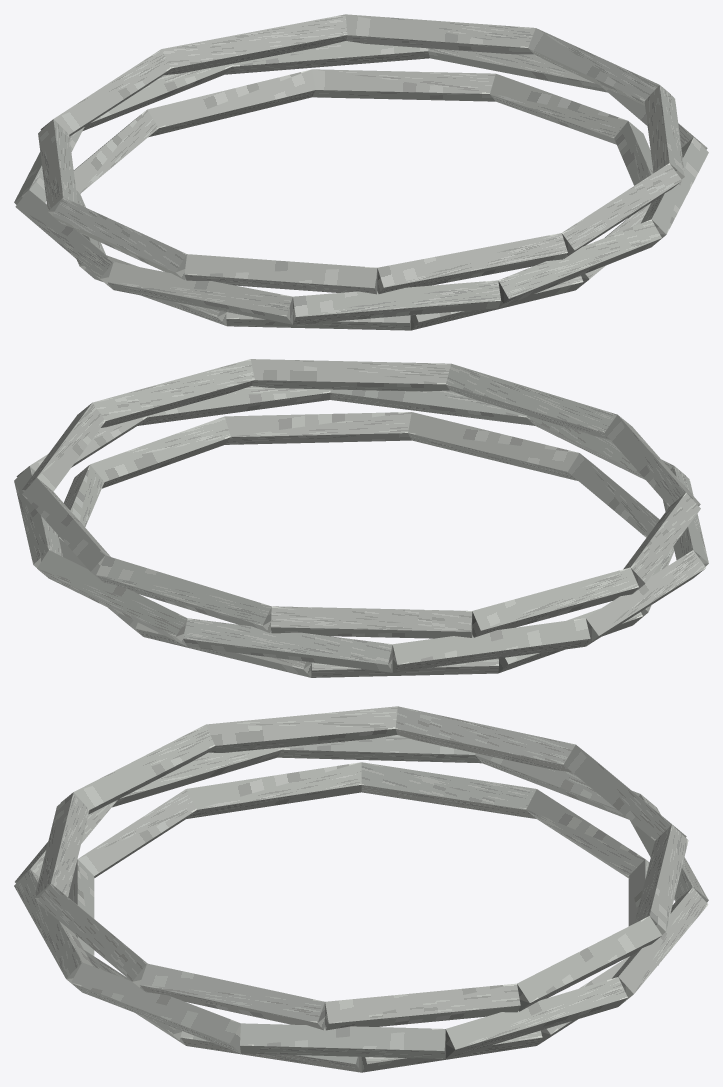
File: ch_wire.glb
The picture shows the model from 3 angles, top to bottom: view 1: azimuth 30°, elevation 25°; view 2: azimuth 150°, elevation 25°; view 3: azimuth 270°, elevation 25°; orthographic projection. The views are drawn at different scales.
Visible parts, largest first — view 1: block_coiled length1-1, block_coiled length2-0, block_coiled length2-5, block_coiled length2-9, block_coiled length0-8, block_coiled length2-4, block_coiled length1-2, block_coiled length0-7, block_coiled length1-0, block_coiled length0-9, block_coiled length2-1, block_coiled length1-6 (+17 smaller); view 2: block_coiled length1-5, block_coiled length2-3, block_coiled length2-8, block_coiled length1-4, block_coiled length0-1, block_coiled length2-4, block_coiled length0-2, block_coiled length2-9, block_coiled length2-2, block_coiled length2-7, block_coiled length1-6, block_coiled length0-0 (+16 smaller); view 3: block_coiled length1-8, block_coiled length2-6, block_coiled length2-1, block_coiled length2-7, block_coiled length1-7, block_coiled length2-2, block_coiled length0-4, block_coiled length0-5, block_coiled length1-9, block_coiled length2-5, block_coiled length2-0, block_coiled length1-3 (+18 smaller).
Part boxes in pixels (box(x1,y1,x2,y2)): block_coiled length1-1: box(293, 280, 500, 324); block_coiled length2-0: box(184, 254, 377, 294); block_coiled length2-5: box(345, 14, 535, 54); block_coiled length2-9: box(377, 233, 567, 293); block_coiled length0-8: box(312, 69, 495, 101); block_coiled length2-4: box(161, 14, 347, 75); block_coiled length1-2: box(107, 262, 292, 324); block_coiled length0-7: box(147, 69, 315, 137); block_coiled length1-0: box(498, 219, 661, 307); block_coiled length0-9: box(490, 74, 627, 144); block_coiled length2-1: box(52, 197, 186, 279); block_coiled length1-6: box(225, 41, 429, 74); block_coiled length1-5: box(183, 618, 392, 672); block_coiled length2-3: box(271, 606, 472, 638); block_coiled length2-8: box(250, 359, 450, 391); block_coiled length1-4: box(392, 618, 590, 672); block_coiled length0-1: box(225, 412, 411, 444); block_coiled length2-4: box(96, 555, 271, 632); block_coiled length0-2: box(408, 412, 579, 480); block_coiled length2-9: box(446, 363, 617, 439); block_coiled length2-2: box(472, 567, 638, 637); block_coiled length2-7: box(92, 359, 254, 427); block_coiled length1-6: box(37, 550, 187, 646); block_coiled length0-0: box(90, 416, 230, 488); block_coiled length1-8: box(240, 1023, 445, 1058); block_coiled length2-6: box(325, 983, 520, 1030); block_coiled length2-1: box(206, 706, 397, 752); block_coiled length2-7: box(139, 963, 324, 1030); block_coiled length1-7: box(445, 977, 627, 1058); block_coiled length2-2: box(395, 706, 575, 772); block_coiled length0-4: box(186, 762, 361, 818); block_coiled length0-5: box(361, 762, 536, 818); block_coiled length1-9: box(71, 962, 240, 1053); block_coiled length2-5: box(517, 916, 661, 1011); block_coiled length2-0: box(61, 724, 214, 814); block_coiled length1-3: box(277, 735, 481, 763).
Bounding box in the file's own units: 0.1485 × 0.0172 × 0.1383.
Materials: 1 (1 with a texture image).
